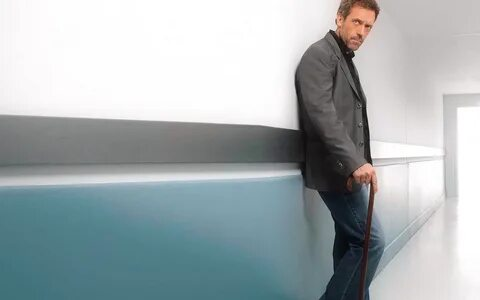awake: (294, 1, 388, 300)
